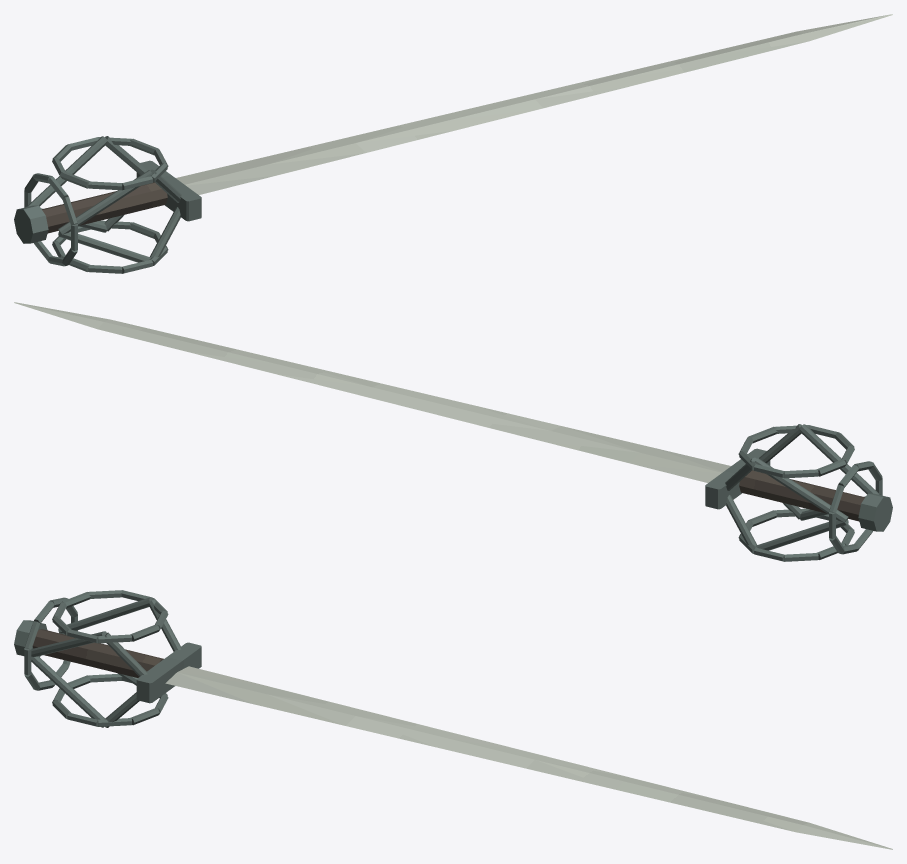
The model's file is weapon-basket-sword.glb.
3 views of the same model, one above another, from view 1: azimuth 30°, elevation 25°; view 2: azimuth 150°, elevation 25°; view 3: azimuth 330°, elevation 25° (orthographic).
Parts seen in each view (by area): view 1: weapon-basket-sword/faceted-distinct-blade, weapon-basket-sword/eight-sided-handle, weapon-basket-sword/transverse-crossguard, weapon-basket-sword/handle-end-pommel, weapon-basket-sword/basket-outer-strut--1-0.031-2, weapon-basket-sword/basket-outer-strut--1--0.031-2, weapon-basket-sword/basket-outer-strut-1--0.031-2; view 2: weapon-basket-sword/faceted-distinct-blade, weapon-basket-sword/eight-sided-handle, weapon-basket-sword/transverse-crossguard, weapon-basket-sword/handle-end-pommel, weapon-basket-sword/basket-outer-strut--1--0.031-2, weapon-basket-sword/basket-outer-strut--1-0.031-2, weapon-basket-sword/basket-outer-strut-1-0.031-2; view 3: weapon-basket-sword/faceted-distinct-blade, weapon-basket-sword/eight-sided-handle, weapon-basket-sword/transverse-crossguard, weapon-basket-sword/basket-outer-strut-1--0.031-2, weapon-basket-sword/basket-outer-strut--1-0.031-2, weapon-basket-sword/basket-outer-strut--1--0.031-2.
Part boxes in pixels (<box>): weapon-basket-sword/faceted-distinct-blade: <box>176,14,892,194</box>; weapon-basket-sword/eight-sided-handle: <box>42,182,167,233</box>; weapon-basket-sword/transverse-crossguard: <box>136,160,201,221</box>; weapon-basket-sword/handle-end-pommel: <box>14,205,48,243</box>; weapon-basket-sword/basket-outer-strut--1-0.031-2: <box>26,136,107,206</box>; weapon-basket-sword/basket-outer-strut--1--0.031-2: <box>58,170,152,234</box>; weapon-basket-sword/basket-outer-strut-1--0.031-2: <box>58,231,150,262</box>; weapon-basket-sword/faceted-distinct-blade: <box>14,302,730,482</box>; weapon-basket-sword/eight-sided-handle: <box>739,470,864,521</box>; weapon-basket-sword/transverse-crossguard: <box>705,448,770,509</box>; weapon-basket-sword/handle-end-pommel: <box>858,493,892,531</box>; weapon-basket-sword/basket-outer-strut--1--0.031-2: <box>799,424,880,494</box>; weapon-basket-sword/basket-outer-strut--1-0.031-2: <box>754,458,848,522</box>; weapon-basket-sword/basket-outer-strut-1-0.031-2: <box>756,519,848,550</box>; weapon-basket-sword/faceted-distinct-blade: <box>165,666,892,849</box>; weapon-basket-sword/eight-sided-handle: <box>32,629,163,677</box>; weapon-basket-sword/transverse-crossguard: <box>136,642,201,703</box>; weapon-basket-sword/basket-outer-strut-1--0.031-2: <box>31,656,104,727</box>; weapon-basket-sword/basket-outer-strut--1-0.031-2: <box>58,597,152,633</box>; weapon-basket-sword/basket-outer-strut--1--0.031-2: <box>31,631,106,656</box>.
Size of the model in its own units: 1 by 0.106 by 0.1134.
Materials: 3 (3 with a texture image).
